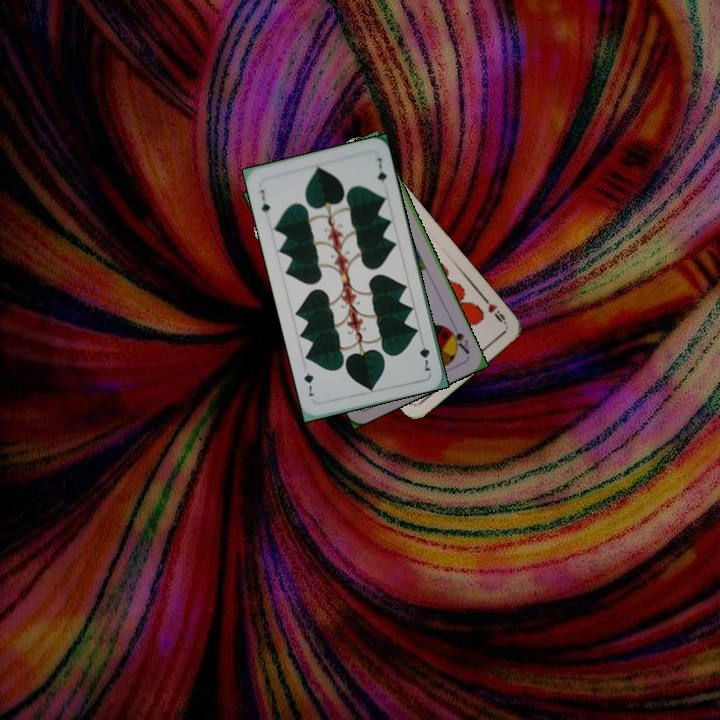G7: (416, 334, 434, 374), (256, 185, 272, 220)
H9: (478, 292, 509, 327)
SA: (443, 323, 472, 357)
